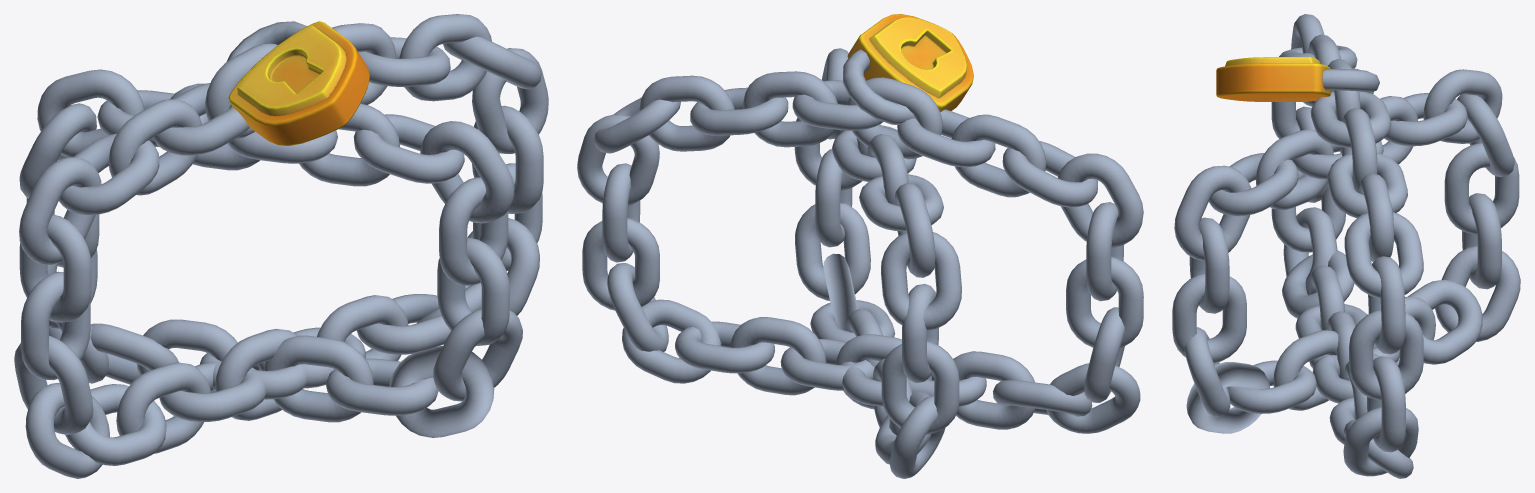
The model's file is Chain_Block_08.fbx.
The picture shows the model from 3 angles, left to right: view 1: azimuth 30°, elevation 25°; view 2: azimuth 150°, elevation 25°; view 3: azimuth 270°, elevation 25°; orthographic projection. The views are drawn at different scales.
Visible parts, largest first — view 1: Chain; view 2: Chain; view 3: Chain.
Part boxes in pixels (x1,y1,x2,y2): Chain: (14, 14, 548, 478); Chain: (577, 14, 1143, 478); Chain: (1172, 14, 1520, 478).
Bounding box in the file's own units: 2.51 × 1.65 × 1.51.
Materials: 1 (1 with a texture image).
